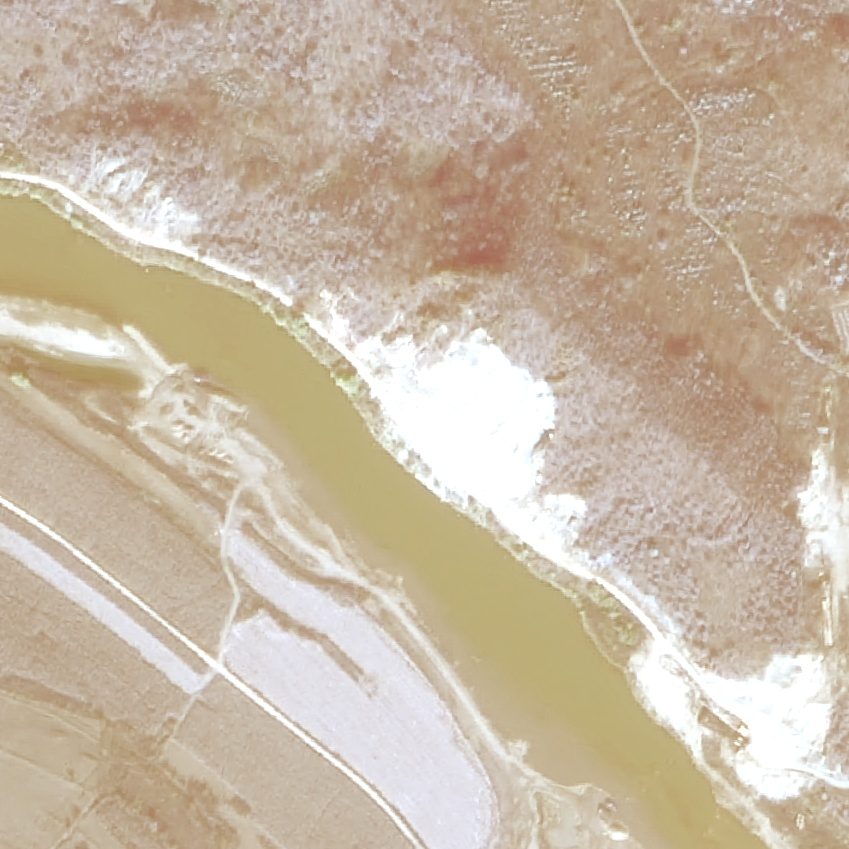slope: (300, 289, 603, 570), (698, 644, 848, 799), (96, 145, 199, 244), (787, 451, 848, 606), (633, 645, 704, 760)
